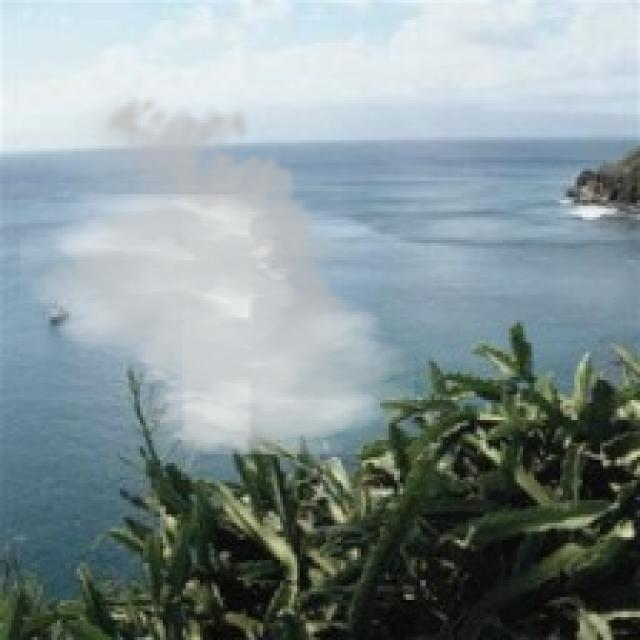Smoke: (19, 86, 414, 454)
